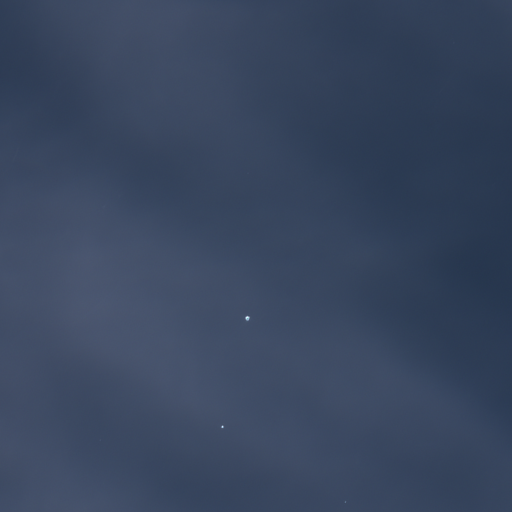Iceberg: (245, 315, 249, 320), (221, 425, 223, 427), (345, 501, 346, 502)
